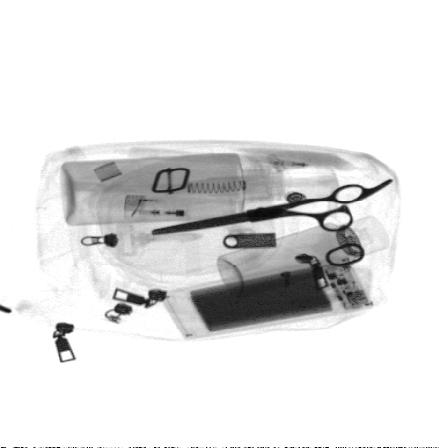Lighter: (120, 193, 242, 221)
Powerbank: (150, 250, 380, 343)
Scissors: (145, 175, 396, 239)
Sprayer: (212, 211, 395, 299)
